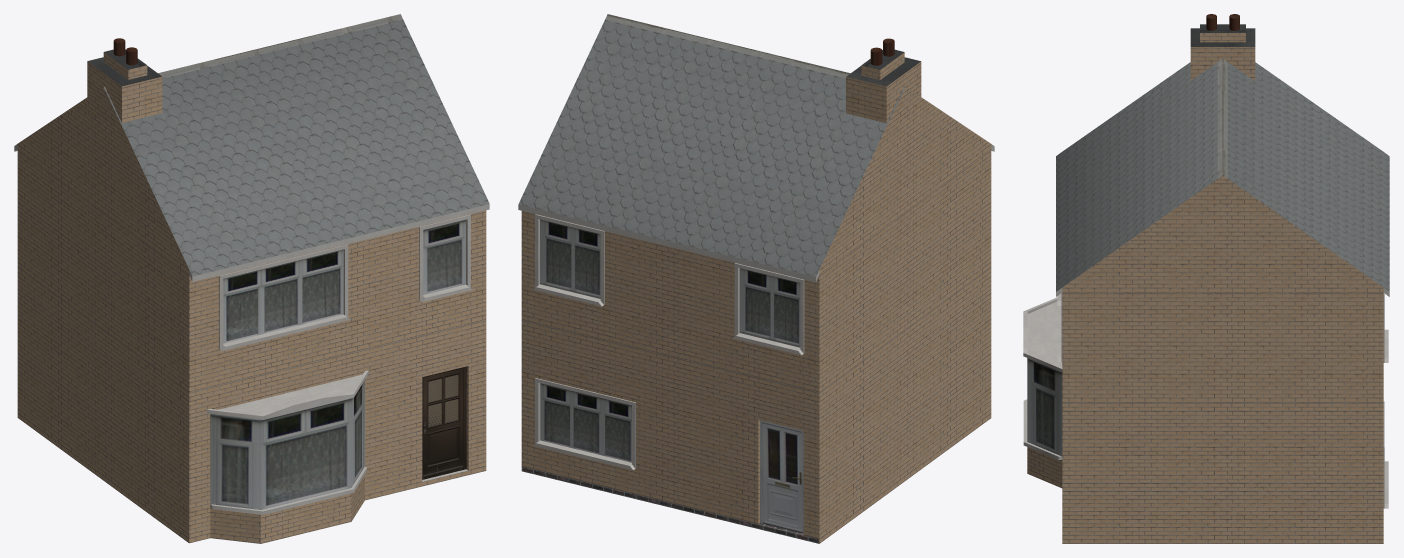
Rendered from terraced1c.FBX.
3 views of the same model, side by side, from view 1: azimuth 30°, elevation 25°; view 2: azimuth 150°, elevation 25°; view 3: azimuth 270°, elevation 25° (orthographic). The views are drawn at different scales.
Visible parts, largest first — view 1: Box001; view 2: Box001; view 3: Box001.
Boxes of the visible parts, x1,y1,x2,y2 form: Box001: [14, 14, 489, 543]; Box001: [518, 14, 994, 543]; Box001: [1023, 14, 1389, 543].
Size of the model in its own units: 800 by 1105 by 913.
